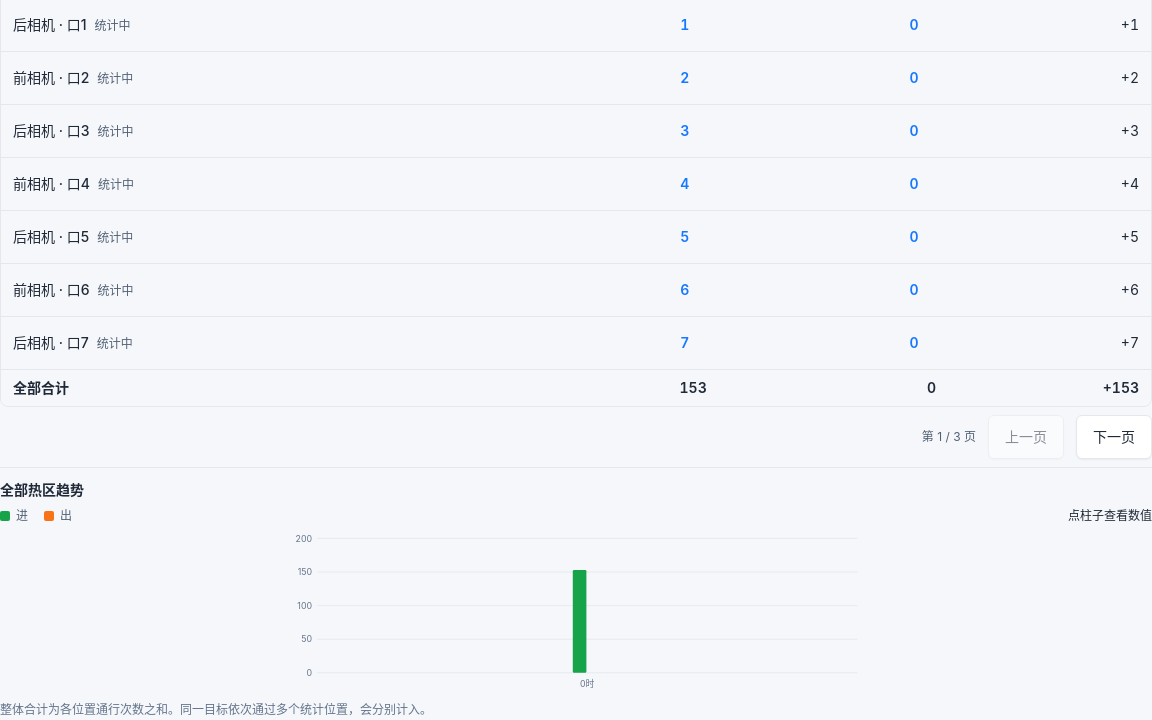
Test: search, camera filter and pagination affect the location list only
The width and height of the screenshot is (1152, 720).
(page scrolled)
Click the button "下一页" at (1114, 437), box [1076,415,1151,459]
(page scrolled)
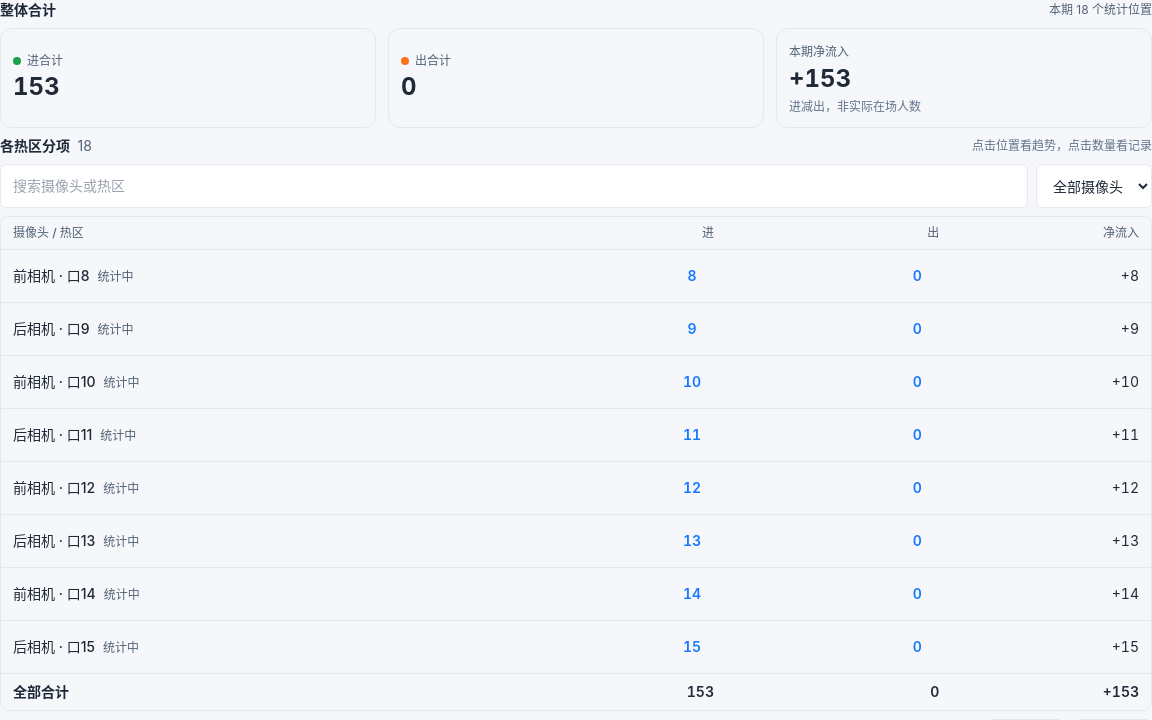
Expected: the button with aria-label "查看 前相机 · 口8 的趋势" is shown, [13,254,489,298]
Type "口17" into the search field named "搜索统计位置" at (514, 186), box [0,164,1028,208]
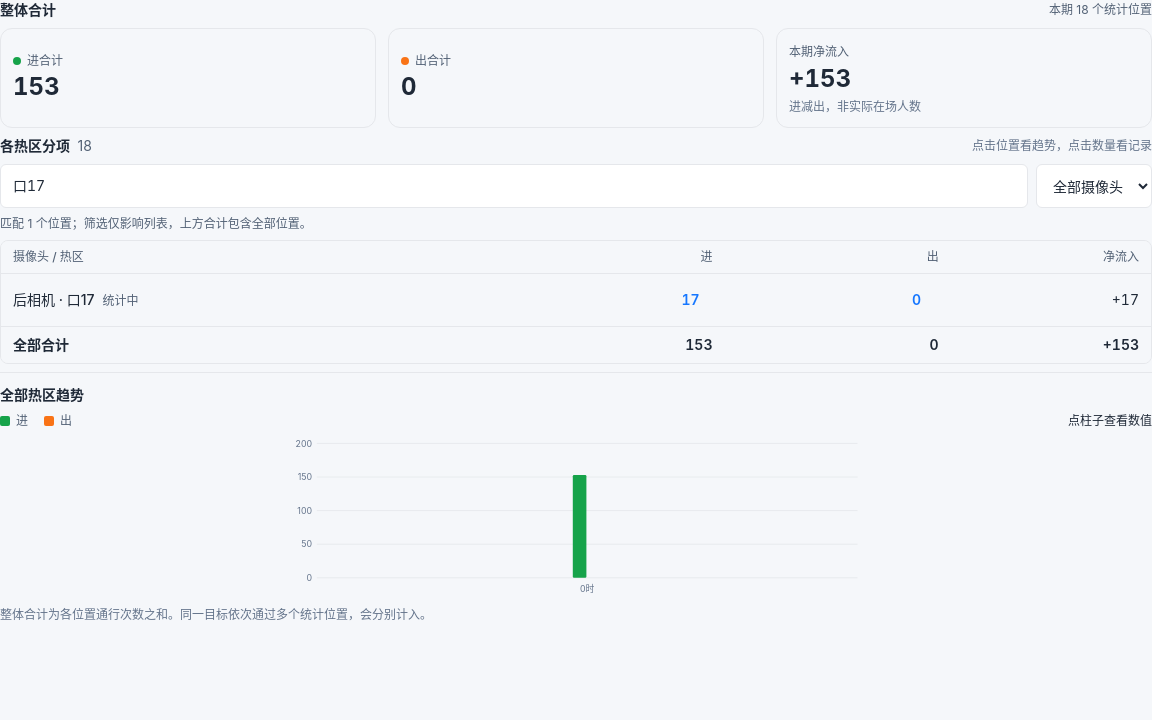
Expected: the button with aria-label "进合计 153，查看通行记录" is shown, [0,28,376,128]
Expected: the number of buttons "后相机 · 口17 统计中" is 1, [13,278,486,322]
Select "前相机" in the dropdown named "筛选摄像头" at (1094, 186), box [1036,164,1151,208]
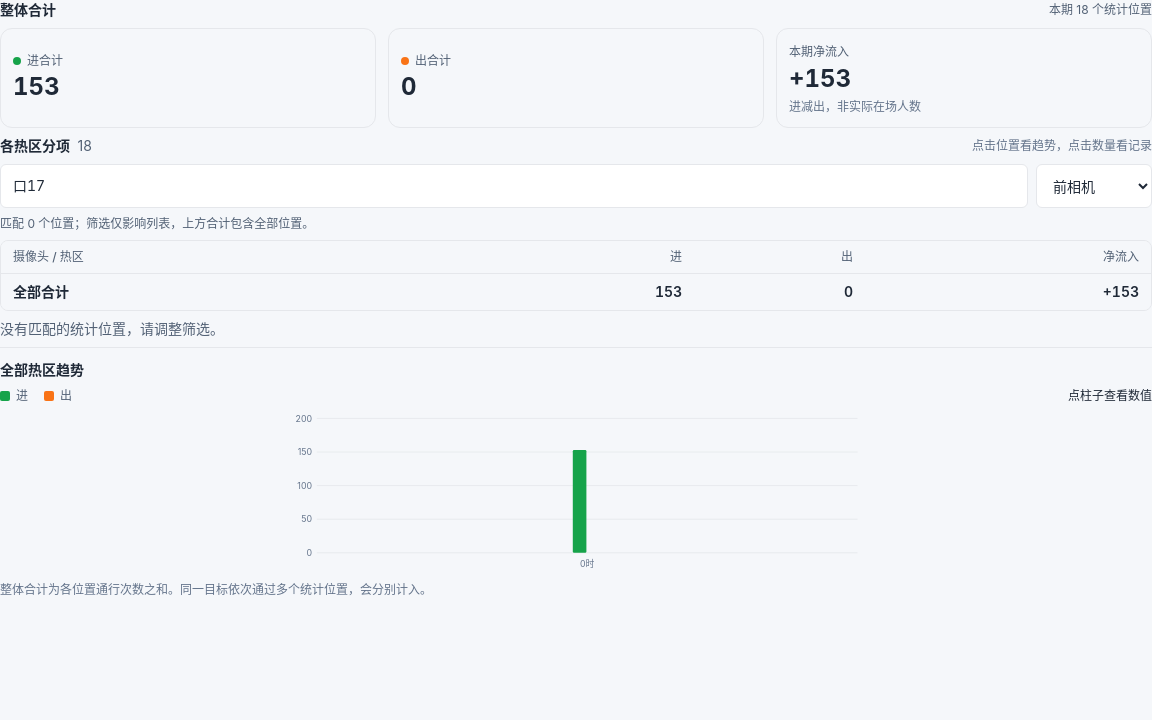
Expected: the message shows "没有匹配", [0,320,224,337]
